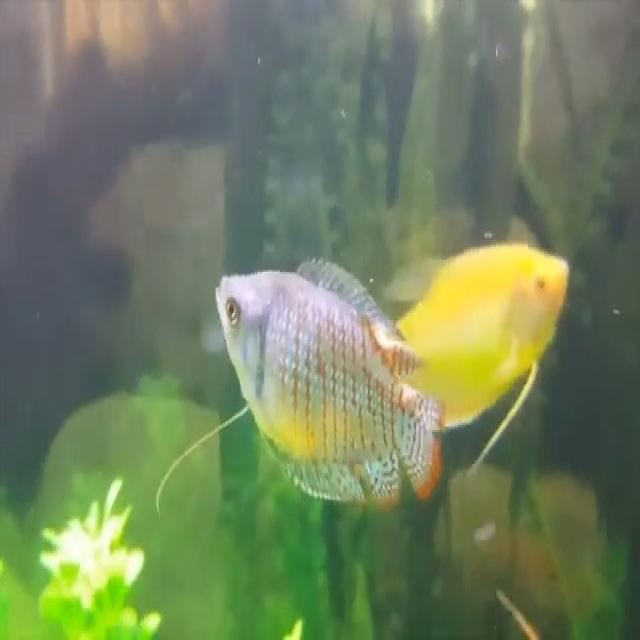fish: (210, 252, 444, 508), (394, 228, 572, 414)
